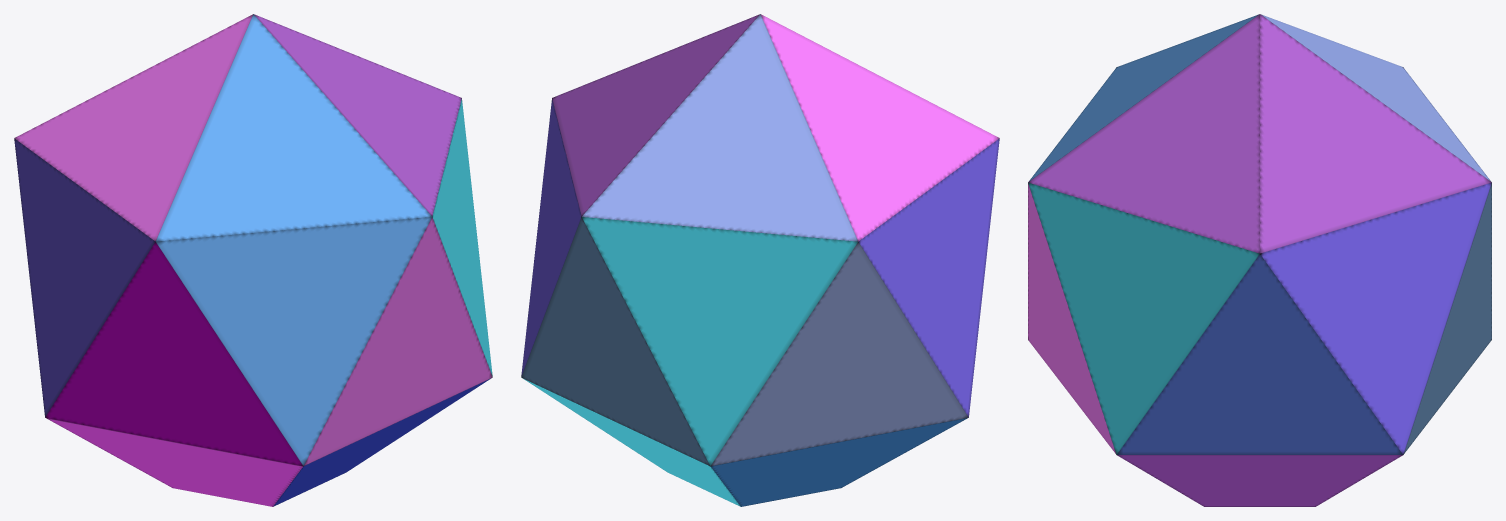
Rendered from Dunamis v2.fbx.
3 views of the same model, side by side, from view 1: azimuth 30°, elevation 25°; view 2: azimuth 150°, elevation 25°; view 3: azimuth 270°, elevation 25° (orthographic).
Parts seen in each view (by area): view 1: Dunamis; view 2: Dunamis; view 3: Dunamis.
Part boxes in pixels (x1=…): Dunamis: x1=14, y1=14, x2=492, y2=506; Dunamis: x1=521, y1=14, x2=999, y2=506; Dunamis: x1=1028, y1=14, x2=1491, y2=506.
Bounding box in the file's own units: 1.79 × 1.86 × 1.7.
Materials: 1 (1 with a texture image).
